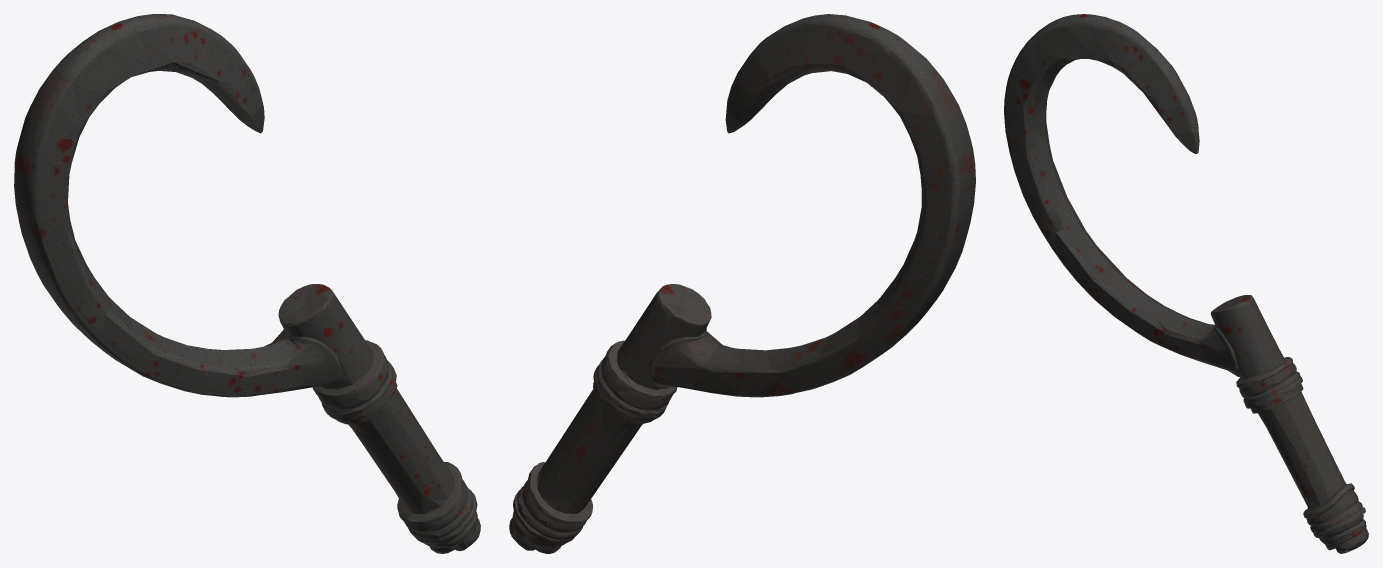
File: fp_boathook.glb
The picture shows the model from 3 angles, left to right: view 1: azimuth 30°, elevation 25°; view 2: azimuth 150°, elevation 25°; view 3: azimuth 330°, elevation 25°; orthographic projection. The views are drawn at different scales.
Size of the model in its own units: 1.5 by 1.9 by 0.2335.
1 material, 1 textured.
